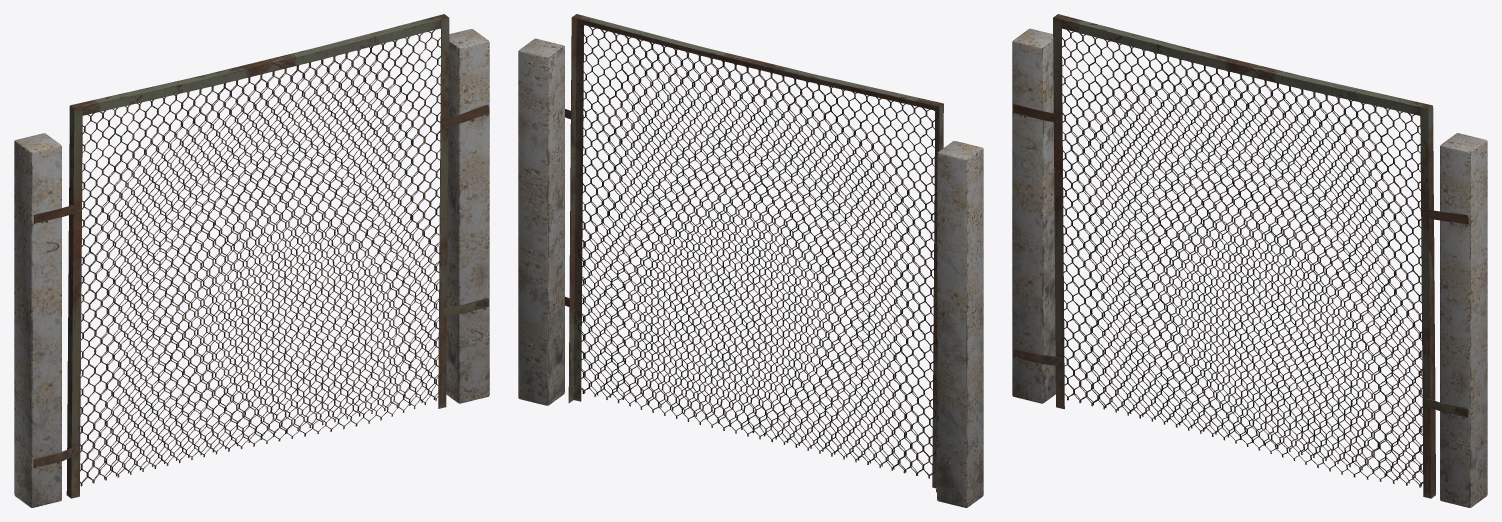
File: old_fence.fbx
The picture shows the model from 3 angles, left to right: view 1: azimuth 30°, elevation 25°; view 2: azimuth 150°, elevation 25°; view 3: azimuth 330°, elevation 25°; orthographic projection. The views are drawn at different scales.
Visible parts, largest first — view 1: Metal_sheet, Construction; view 2: Metal_sheet, Construction; view 3: Metal_sheet, Construction.
Part boxes in pixels (x1,y1,x2,y2): Metal_sheet: (80,28,441,486); Construction: (14,14,489,507); Metal_sheet: (577,22,938,478); Construction: (518,14,983,507); Metal_sheet: (1062,30,1424,487); Construction: (1012,14,1487,507).
Bounding box in the file's own units: 164 × 134 × 15.94.
2 materials, 2 textured.
